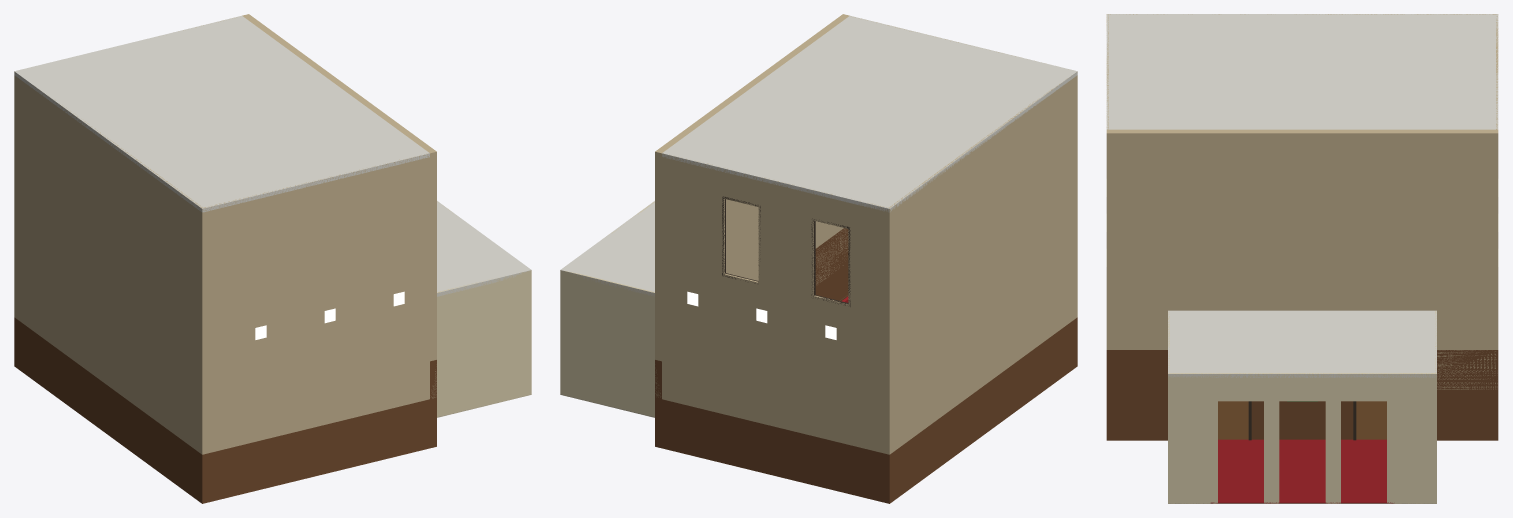
File: dum_27_kino_interier.glb
The picture shows the model from 3 angles, left to right: view 1: azimuth 30°, elevation 25°; view 2: azimuth 150°, elevation 25°; view 3: azimuth 270°, elevation 25°; orthographic projection. The views are drawn at different scales.
Visible parts, largest first — view 1: interier; view 2: interier; view 3: interier, podlaha, dvere_00, dvere_01.
Boxes of the visible parts, box(x1,y1,x2,y2) form: interier: box(14, 14, 531, 503); interier: box(560, 14, 1077, 503); interier: box(1106, 14, 1498, 503); podlaha: box(1169, 439, 1435, 503); dvere_00: box(1218, 401, 1248, 439); dvere_01: box(1356, 401, 1386, 439).
Size of the model in its own units: 9.9 by 7.78 by 9.01.
4 materials, 2 textured.
